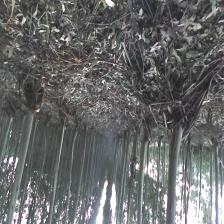trunk: (6, 104, 33, 218), (166, 120, 184, 220), (48, 120, 66, 212), (137, 132, 150, 220), (66, 128, 78, 202), (214, 140, 219, 220)
